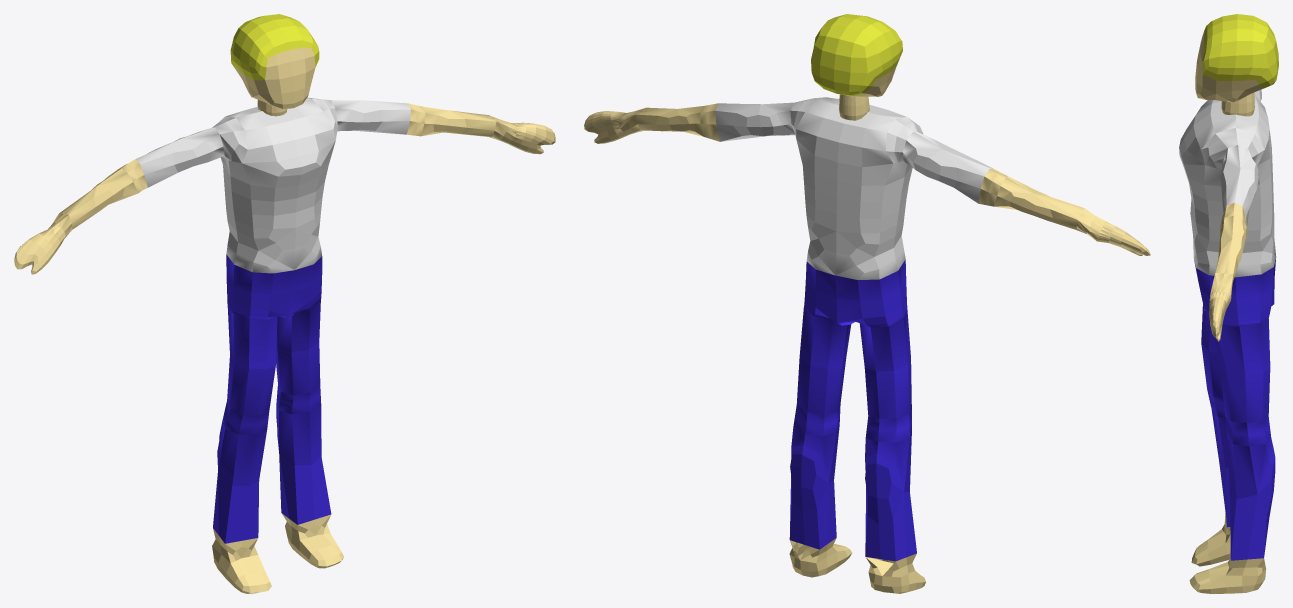
Rendered from mother 2.fbx.
3 views of the same model, side by side, from view 1: azimuth 30°, elevation 25°; view 2: azimuth 150°, elevation 25°; view 3: azimuth 270°, elevation 25° (orthographic). The views are drawn at different scales.
Parts seen in each view (by area): view 1: 2; view 2: 2; view 3: 2.
Part boxes in pixels (x1,y1,x2,y2): 2: (14, 14, 555, 593); 2: (584, 14, 1150, 593); 2: (1179, 14, 1278, 593).
Size of the model in its own units: 1155 by 1118 by 181.
